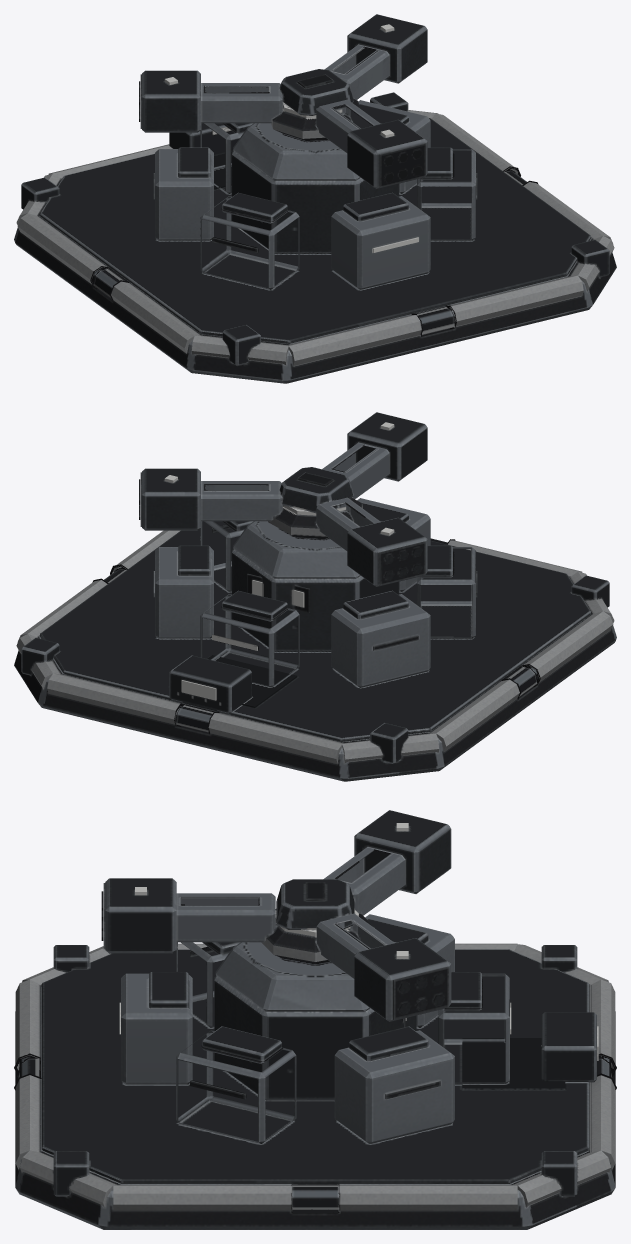
File: chs_seaextractor.fbx
3 renders of one model, top to bottom at view 1: azimuth 30°, elevation 25°; view 2: azimuth 150°, elevation 25°; view 3: azimuth 270°, elevation 25°, orthographic. The views are drawn at different scales.
Visible parts, largest first — view 1: base_bar, drill_bar; view 2: base_bar, drill_bar; view 3: base_bar, drill_bar.
Boxes of the visible parts, left/top/right/bottom form: base_bar: left=14, top=92, right=616, bottom=383; drill_bar: left=139, top=14, right=427, bottom=188; base_bar: left=14, top=498, right=616, bottom=781; drill_bar: left=139, top=412, right=427, bottom=586; base_bar: left=14, top=914, right=616, bottom=1229; drill_bar: left=101, top=810, right=451, bottom=1021.
Size of the model in its own units: 1520 by 799 by 1520.
2 materials, 2 textured.
